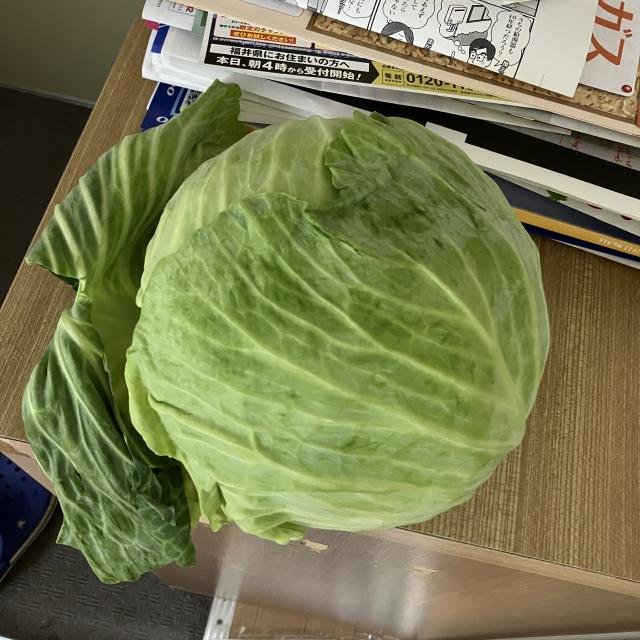cabbage: (121, 110, 554, 553)
